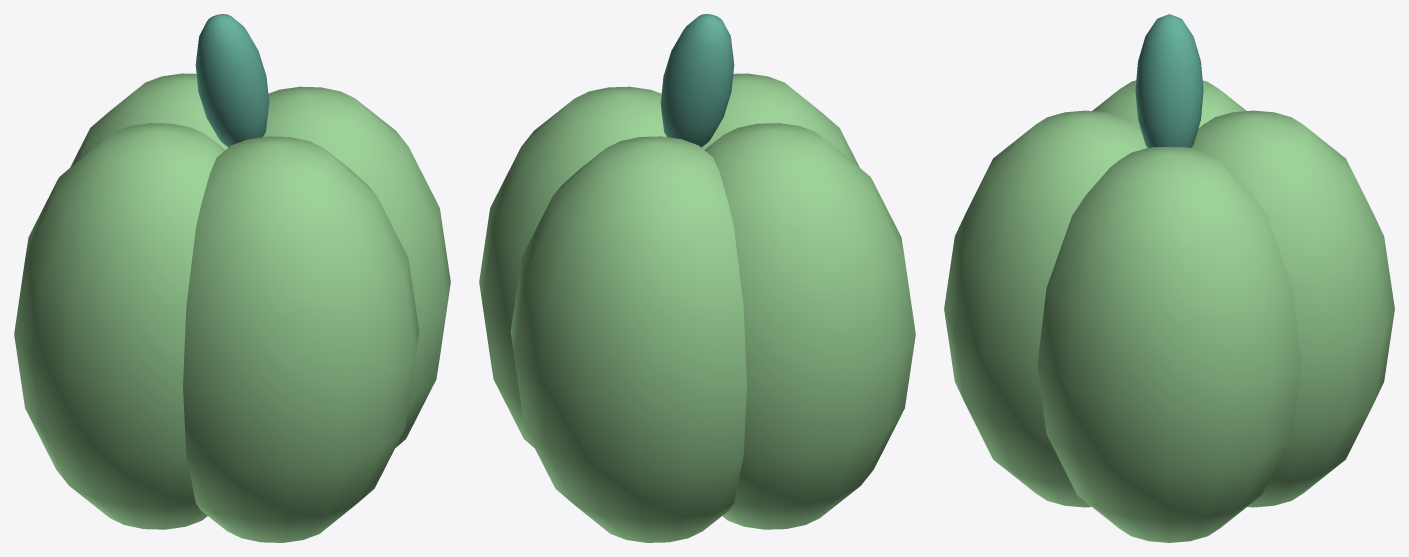
Rendered from pepper.glb.
3 renders of one model, left to right at view 1: azimuth 30°, elevation 25°; view 2: azimuth 150°, elevation 25°; view 3: azimuth 270°, elevation 25°, orthographic. The views are drawn at different scales.
Parts seen in each view (by area): view 1: pepper; view 2: pepper; view 3: pepper.
Part boxes in pixels (<box>): pepper: <box>14,14,450,542</box>; pepper: <box>479,14,915,542</box>; pepper: <box>944,14,1394,542</box>.
Bounding box in the file's own units: 0.86 × 1.01 × 0.86.
